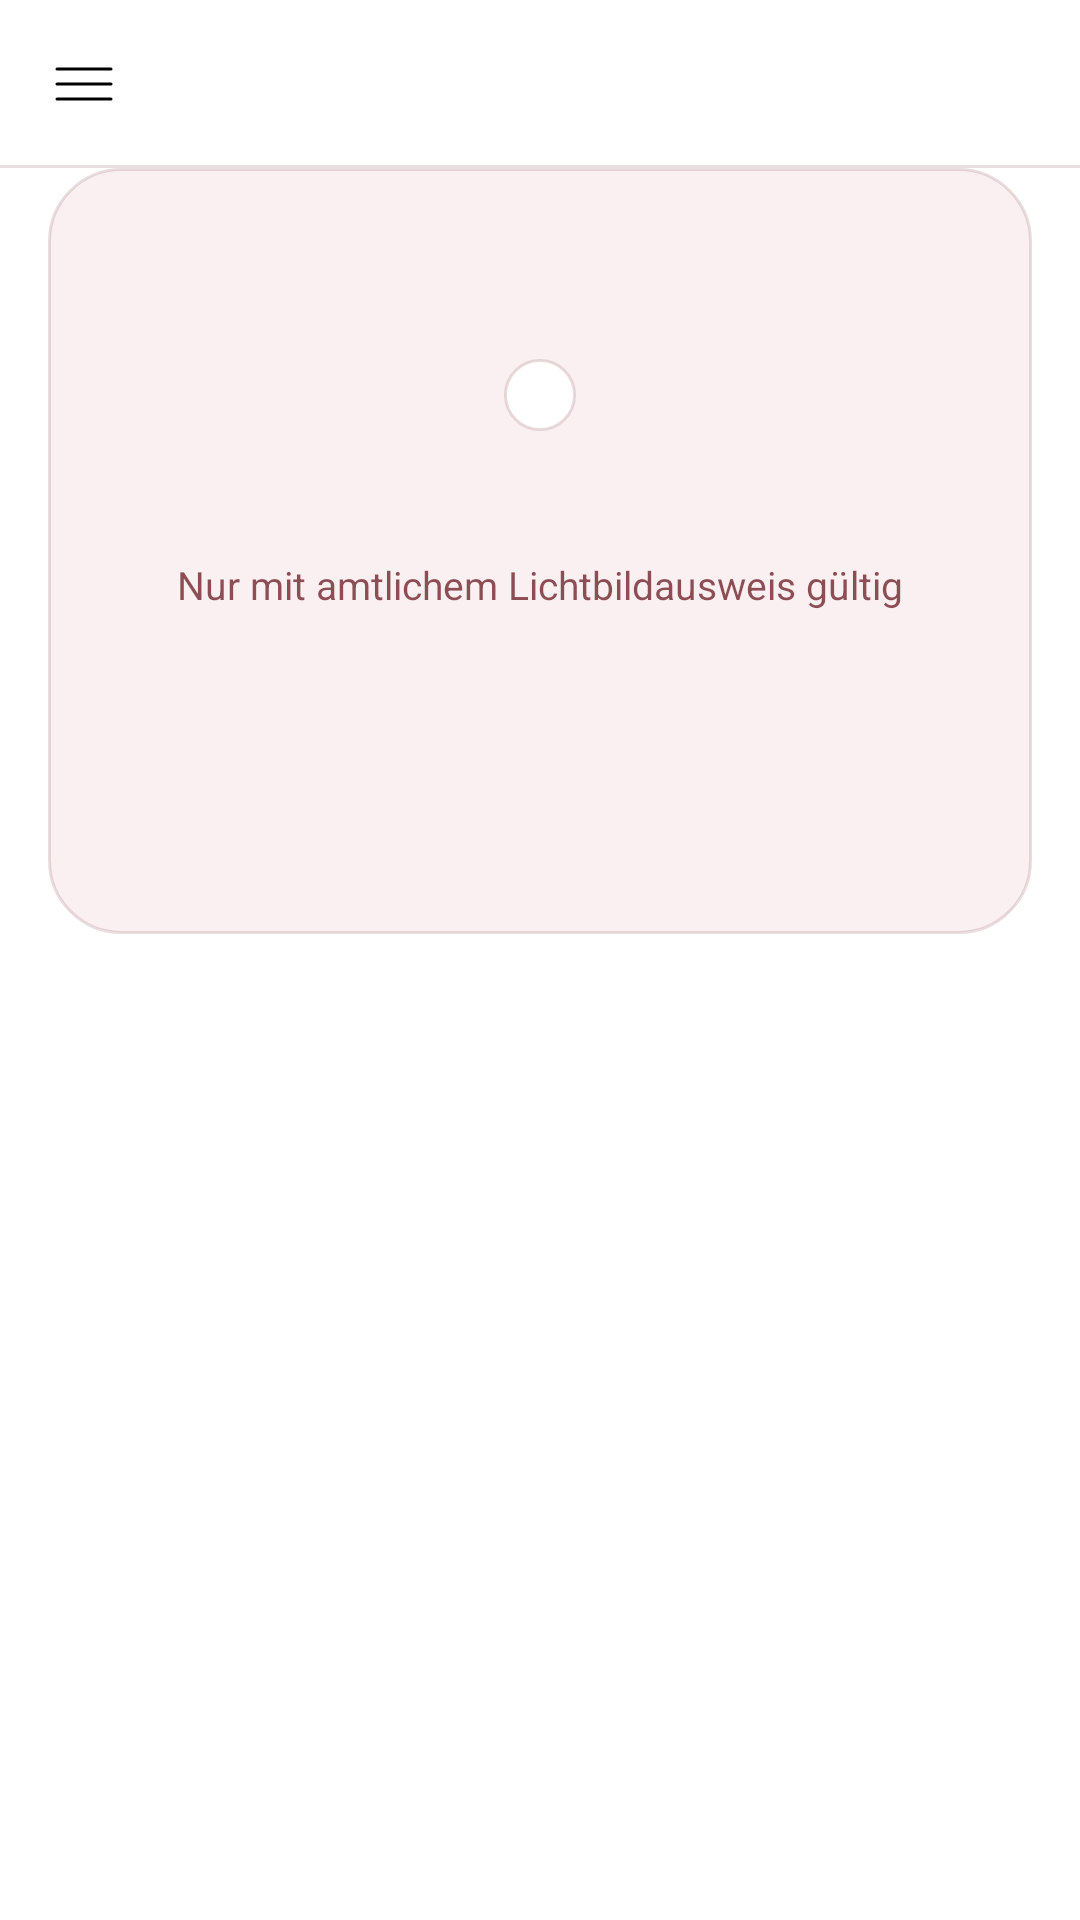

Icons on this 1080×1920 Android screen, each with its box as (x1, y1, x2, y2):
Menü: (55, 67, 113, 101)
